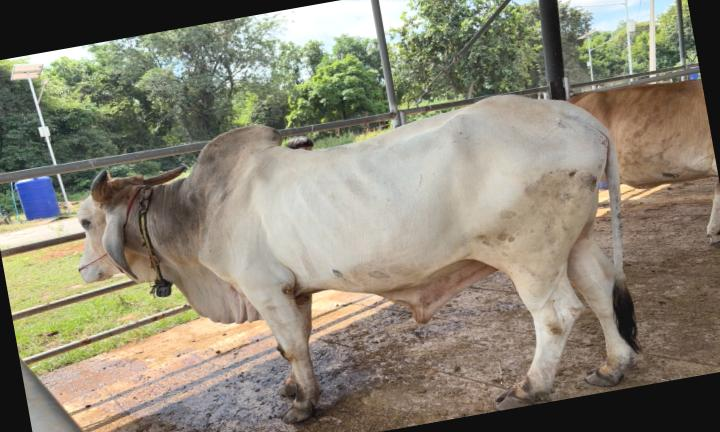Brahman: (80, 95, 638, 423)
